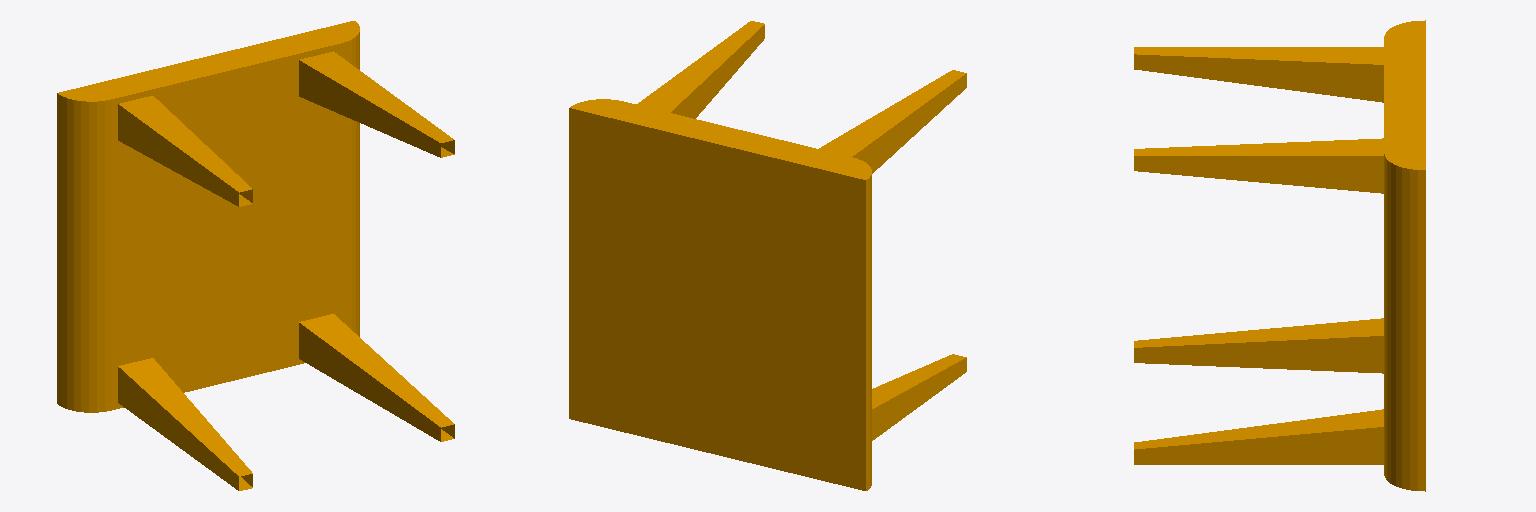
robot.urdf — Kitchen_table:
<?xml version="1.0" ?>
<robot name="Kitchen_table">
    <link name="link">
    <color rgba="0 0 0.8 1"/>
    <contact>
      <lateral_friction value="1.0"/>
      <rolling_friction value="1"/>
      <inertia_scaling value="3.0"/>
    </contact>
    <inertial>
      <origin xyz="0. 0. 0." />
      <mass value="10000000" />
      <inertia ixx="0.001" ixy="0.0" ixz="0.0" iyy="0.001" iyz="0.0" izz="0.001" />
    </inertial>
      <pose>0 0 0 0 0 1.57079632679</pose>

        <visual name="visual">
        <origin rpy="0.0 0.0 0.0" xyz="0.0 0.0 0.0" />
          <geometry>
            <mesh filename="meshes/model.obj" />
          </geometry>
        </visual>

        <collision name="collision">
        <origin rpy="0.0 0.0 0.0" xyz="0.0 0.0 0.0" />
          <geometry>
            <mesh filename="meshes/model.obj" />
          </geometry>
        </collision>

    </link>
  </robot>

--- Facts derived from the render (not from the file) ---
The picture shows the robot from 3 angles, left to right: view 1: azimuth 30°, elevation 25°; view 2: azimuth 150°, elevation 25°; view 3: azimuth 270°, elevation 25°; orthographic projection.
Model Kitchen_table with 1 links and 0 joints (none), rooted at link, posed all joints at 0.
Visible links, largest first — view 1: link; view 2: link; view 3: link.
Link boxes in pixels (bbox=[...]): link: bbox=[57, 21, 454, 490]; link: bbox=[569, 21, 966, 490]; link: bbox=[1134, 20, 1425, 491].
Bounding box of the posed robot: 0.51 × 0.42 × 0.51 m (x, y, z).
1 mesh visuals loaded from 1 distinct referenced files (1 OBJ).